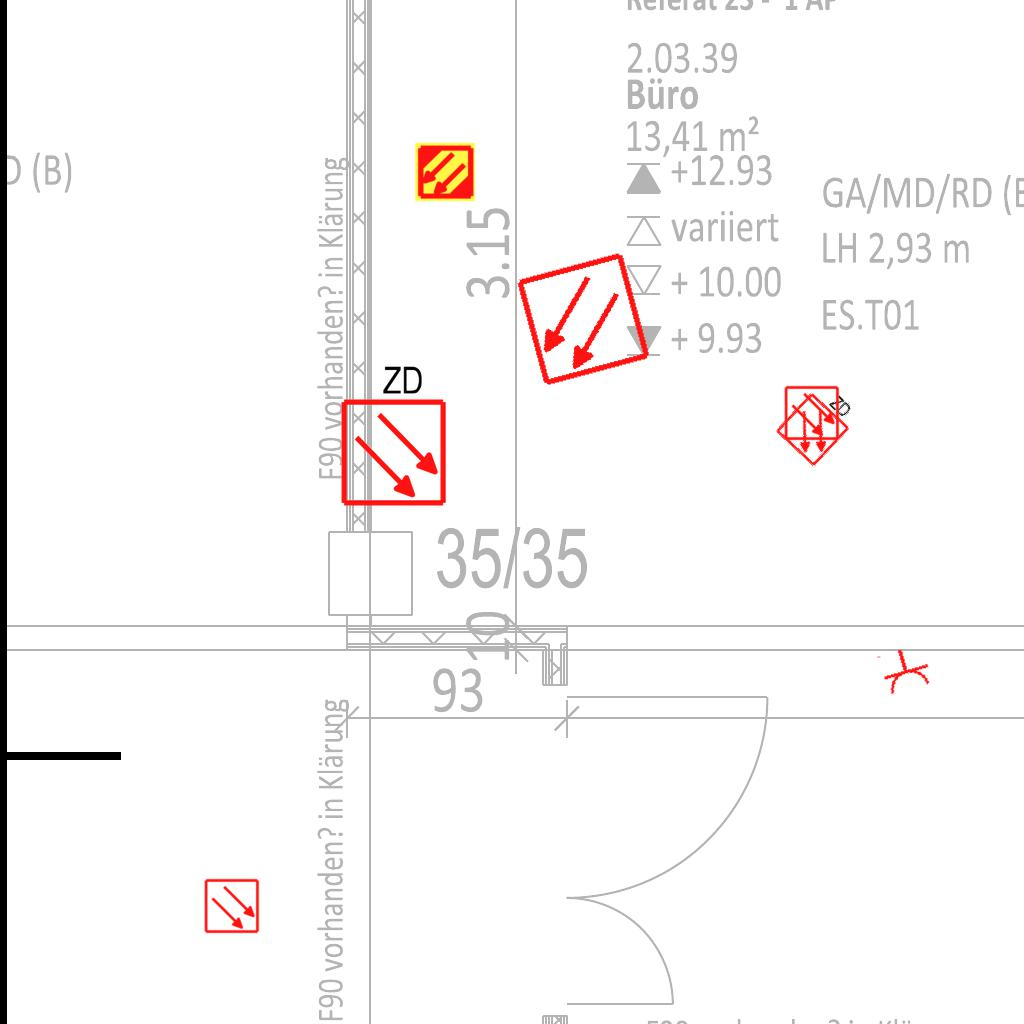ASR_Ansaugrauchmelder: (414, 141, 476, 203)
RMO_Rauchmelder_optischer: (514, 250, 653, 389), (204, 878, 260, 934), (784, 385, 840, 441)
Schukosteckdose_einfach: (874, 642, 935, 698)
ZD_Melder_in_Zwischendecke_mit_Revisionsoeffnung_mind_40_x_40_cm: (335, 359, 449, 508), (772, 375, 865, 469)
